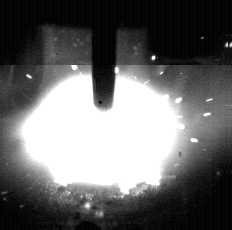arame: (93, 0, 116, 111)
poca: (23, 0, 179, 230)
